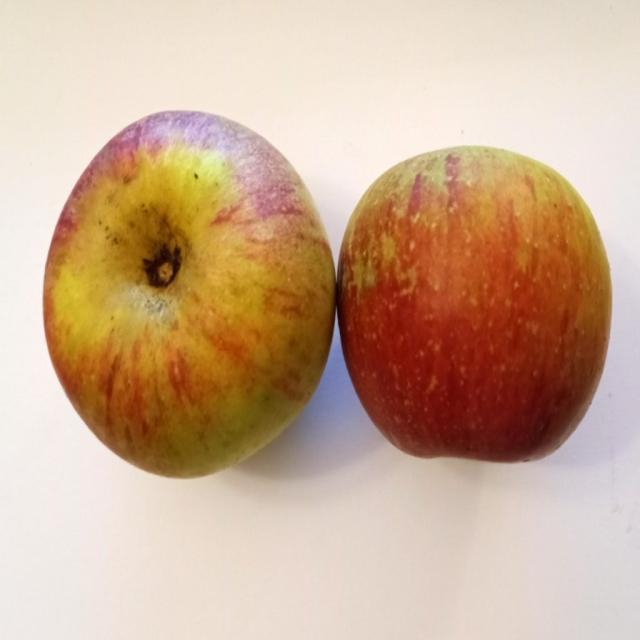Red Apple: (41, 104, 338, 481), (333, 143, 614, 466)
